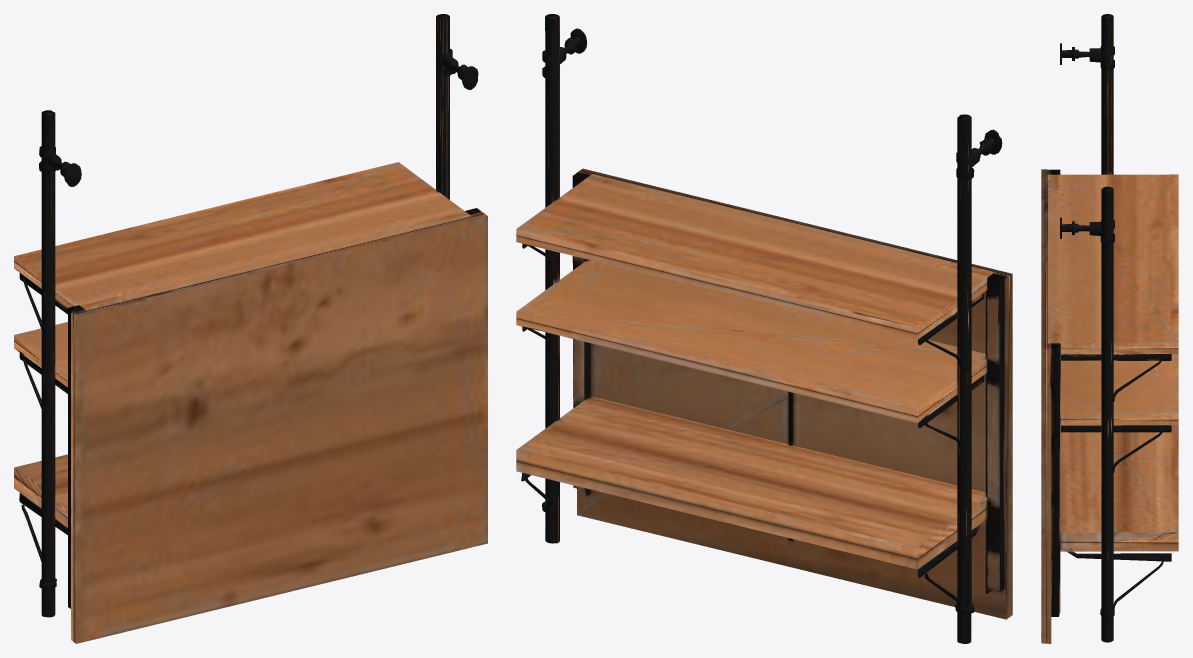
File: mall-outdoors-plank-shelving.glb
3 renders of one model, left to right at view 1: azimuth 30°, elevation 25°; view 2: azimuth 150°, elevation 25°; view 3: azimuth 270°, elevation 25°, orthographic. The views are drawn at different scales.
Visible parts, largest first — view 1: outdoors-plank-shelving; view 2: outdoors-plank-shelving; view 3: outdoors-plank-shelving.
Part boxes in pixels (<box>): outdoors-plank-shelving: <box>14,14,487,643</box>; outdoors-plank-shelving: <box>516,14,1012,643</box>; outdoors-plank-shelving: <box>1041,14,1178,643</box>.
Size of the model in its own units: 1.5 by 1.74 by 0.4809.
Materials: 1 (1 with a texture image).
